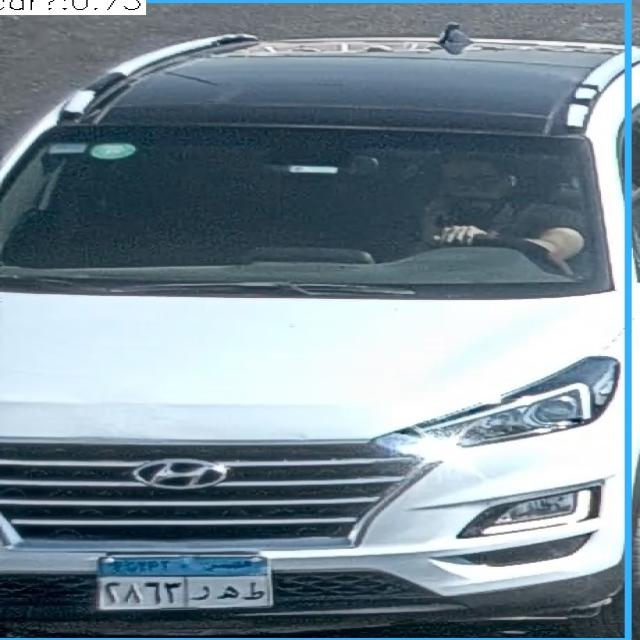windshield: (13, 120, 605, 291)
